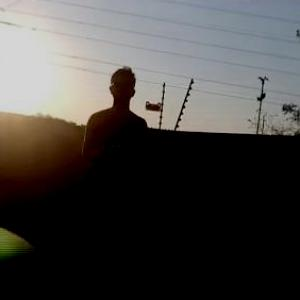follow: (75, 58, 152, 299)
